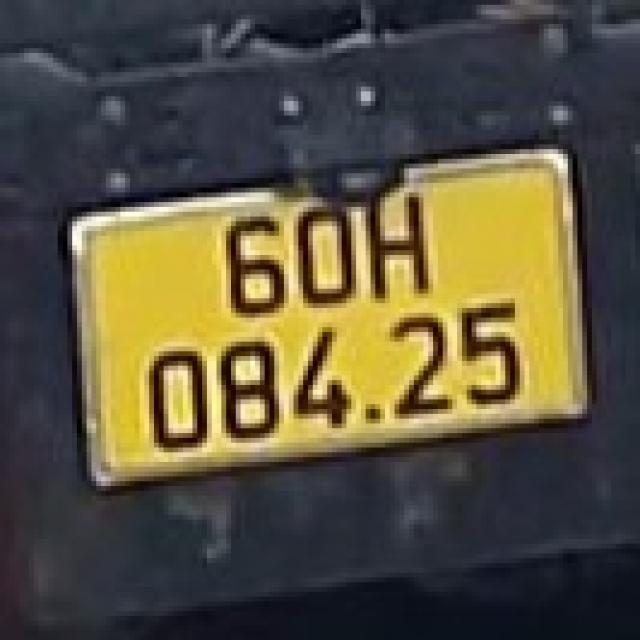0: (296, 204, 358, 308), (148, 349, 210, 453)
2: (389, 310, 452, 422)
4: (294, 326, 351, 434)
5: (460, 298, 524, 410)
6: (228, 213, 285, 317)
8: (220, 337, 279, 444)
H: (367, 192, 430, 300)
